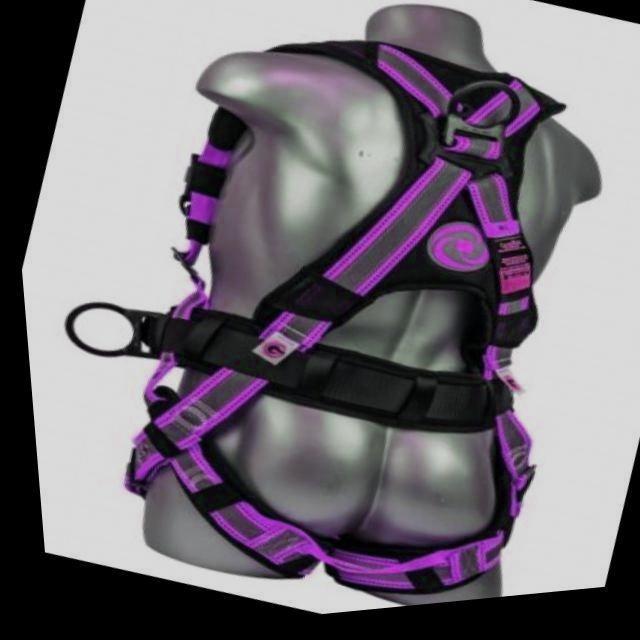safety belt: (164, 45, 544, 576)
